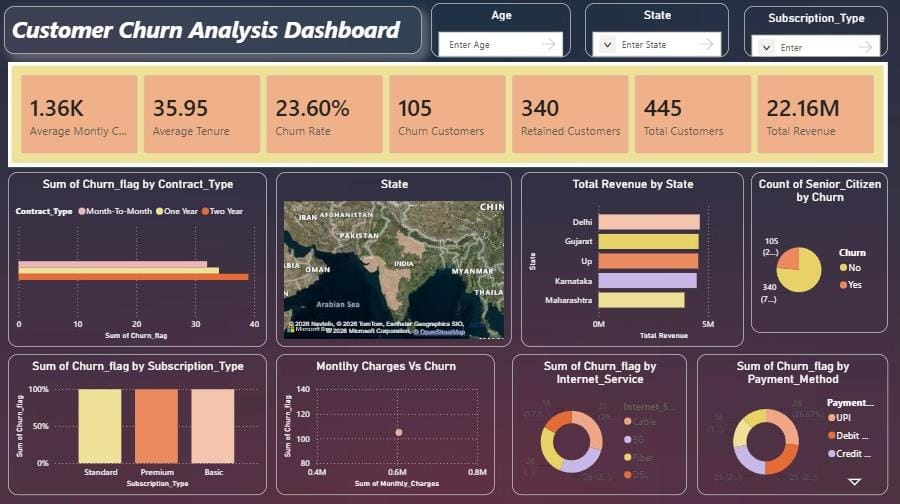

The dashboard page shown, as its layout file describes it:
{"tool":"powerbi","page":{"name":"Page 1","canvas":[1280,720],"ordinal":0},"visuals":[{"type":"textbox","box":[11.3,11.3,592.4,68],"z":0},{"type":"cardVisual","fields":{"Data":["Dax Measure.Average Montly Charges","Dax Measure.Average Tenure","Dax Measure.Churn Rate","Dax Measure.Churn Customers","Dax Measure.Retained Customers","Dax Measure.Total Customers","Dax Measure.Total Revenue"]},"box":[17,90.7,1247.2,148.8],"z":1000},{"type":"clusteredBarChart","fields":{"Series":["clean_churn_dataset.Contract_Type"],"Y":["Sum(clean_churn_dataset.Churn_flag)"]},"box":[17,246.6,367.1,248],"z":2000},{"type":"hundredPercentStackedColumnChart","fields":{"Category":["clean_churn_dataset.Subscription_Type"],"Y":["Sum(clean_churn_dataset.Churn_flag)"]},"box":[17,504.6,367.1,199.8],"z":3000},{"type":"filledMap","fields":{"Category":["clean_churn_dataset.State"]},"box":[396.9,246.6,334.5,248],"z":4000},{"type":"scatterChart","title":"Montlhy Charges Vs Churn","fields":{"X":["Sum(clean_churn_dataset.Monthly_Charges)"],"Y":["Sum(clean_churn_dataset.Churn_flag)"]},"box":[396.9,504.6,310.4,199.8],"z":4001},{"type":"barChart","fields":{"Category":["clean_churn_dataset.State"],"Y":["Dax Measure.Total Revenue"]},"box":[744.1,246.6,316.1,248],"z":4002},{"type":"donutChart","fields":{"Category":["clean_churn_dataset.Internet_Service"],"Y":["Sum(clean_churn_dataset.Churn_flag)"]},"box":[731.3,504.6,248,199.8],"z":4003},{"type":"donutChart","fields":{"Category":["clean_churn_dataset.Payment_Method"],"Y":["Sum(clean_churn_dataset.Churn_flag)"]},"box":[993.5,504.6,270.7,199.8],"z":4004},{"type":"pieChart","fields":{"Category":["clean_churn_dataset.Churn"],"Y":["CountNonNull(clean_churn_dataset.Senior_Citizen)"]},"box":[1070.1,246.6,194.2,228.2],"z":4005},{"type":"textSlicer","fields":{"Values":["clean_churn_dataset.Age"]},"box":[616.5,7.1,198.4,76.5],"z":4006},{"type":"textSlicer","fields":{"Values":["clean_churn_dataset.State"]},"box":[834.8,7.1,204.1,76.5],"z":4007},{"type":"textSlicer","fields":{"Values":["clean_churn_dataset.Subscription_Type"]},"box":[1060.2,11.3,204.1,72.3],"z":4008}]}

Visuals, with their boxes in screenshot pixels (x1, y1, x2, y2), scaled from the page's 1280x720 canvas onto the 900x504 screenshot:
textbox: 8, 8, 424, 56
cardVisual - Dax Measure.Average Montly Charges x Dax Measure.Average Tenure: 12, 63, 889, 168
clusteredBarChart - clean_churn_dataset.Contract_Type x Sum(clean_churn_dataset.Churn_flag): 12, 173, 270, 346
hundredPercentStackedColumnChart - clean_churn_dataset.Subscription_Type x Sum(clean_churn_dataset.Churn_flag): 12, 353, 270, 493
filledMap - clean_churn_dataset.State: 279, 173, 514, 346
"Montlhy Charges Vs Churn" scatterChart: 279, 353, 497, 493
barChart - clean_churn_dataset.State x Dax Measure.Total Revenue: 523, 173, 745, 346
donutChart - clean_churn_dataset.Internet_Service x Sum(clean_churn_dataset.Churn_flag): 514, 353, 689, 493
donutChart - clean_churn_dataset.Payment_Method x Sum(clean_churn_dataset.Churn_flag): 699, 353, 889, 493
pieChart - clean_churn_dataset.Churn x CountNonNull(clean_churn_dataset.Senior_Citizen): 752, 173, 889, 332
textSlicer - clean_churn_dataset.Age: 433, 5, 573, 59
textSlicer - clean_churn_dataset.State: 587, 5, 730, 59
textSlicer - clean_churn_dataset.Subscription_Type: 745, 8, 889, 59
